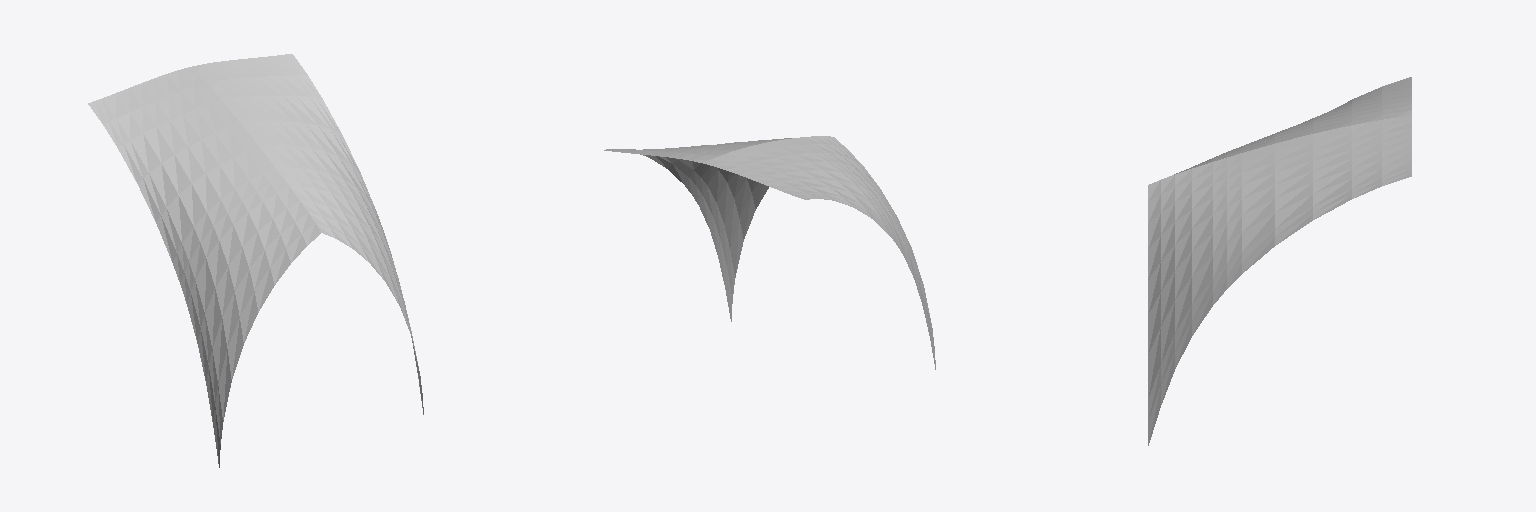
The model's file is ArchElement.obj.
The picture shows the model from 3 angles: view 1: azimuth 30°, elevation 25°; view 2: azimuth 150°, elevation 25°; view 3: azimuth 270°, elevation 25°; orthographic projection.
Parts seen in each view (by area): view 1: object_1; view 2: object_1; view 3: object_1.
Boxes of the visible parts, x1,y1,x2,y2 form: object_1: [88, 54, 423, 467]; object_1: [604, 136, 935, 369]; object_1: [1148, 77, 1411, 445].
Size of the model in its own units: 12.19 by 16.03 by 13.57.